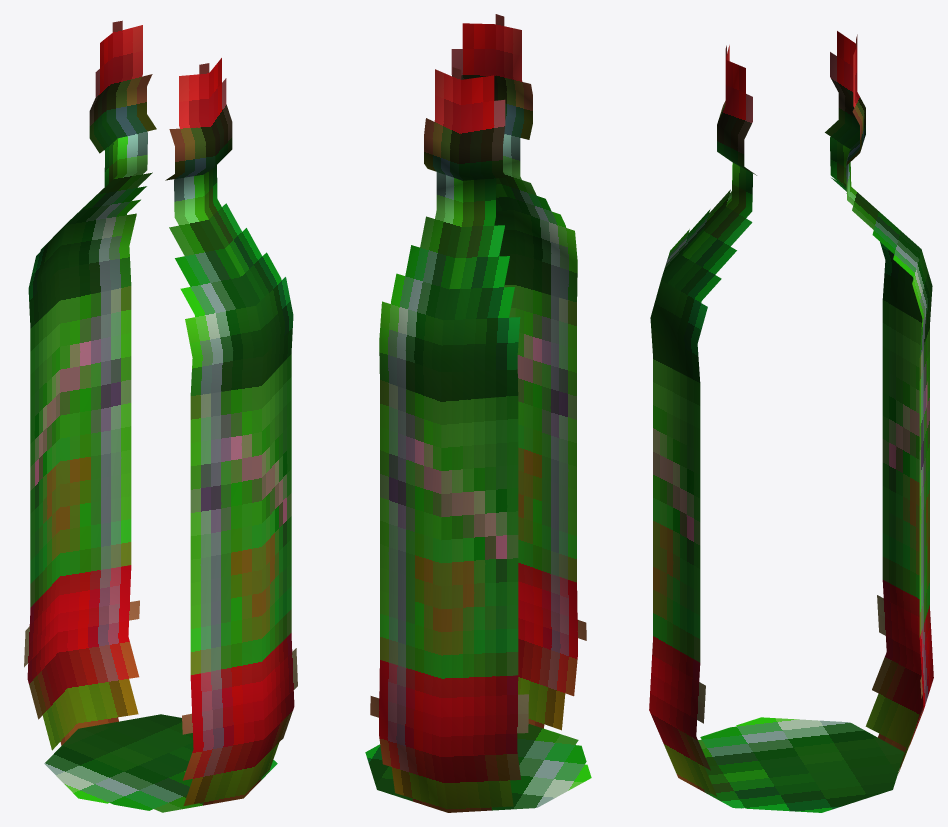
File: GreedyAxe.fbx
3 views of the same model, side by side, from view 1: azimuth 30°, elevation 25°; view 2: azimuth 150°, elevation 25°; view 3: azimuth 270°, elevation 25° (orthographic).
Parts seen in each view (by area): view 1: Item_GreedyAxe; view 2: Item_GreedyAxe; view 3: Item_GreedyAxe.
Part boxes in pixels (box(x1,y1,x2,y2)): Item_GreedyAxe: box(24, 20, 297, 812); Item_GreedyAxe: box(365, 14, 591, 812); Item_GreedyAxe: box(649, 31, 933, 812).
Bounding box in the file's own units: 0.1701 × 0.4768 × 0.1701.
1 material, 1 textured.
